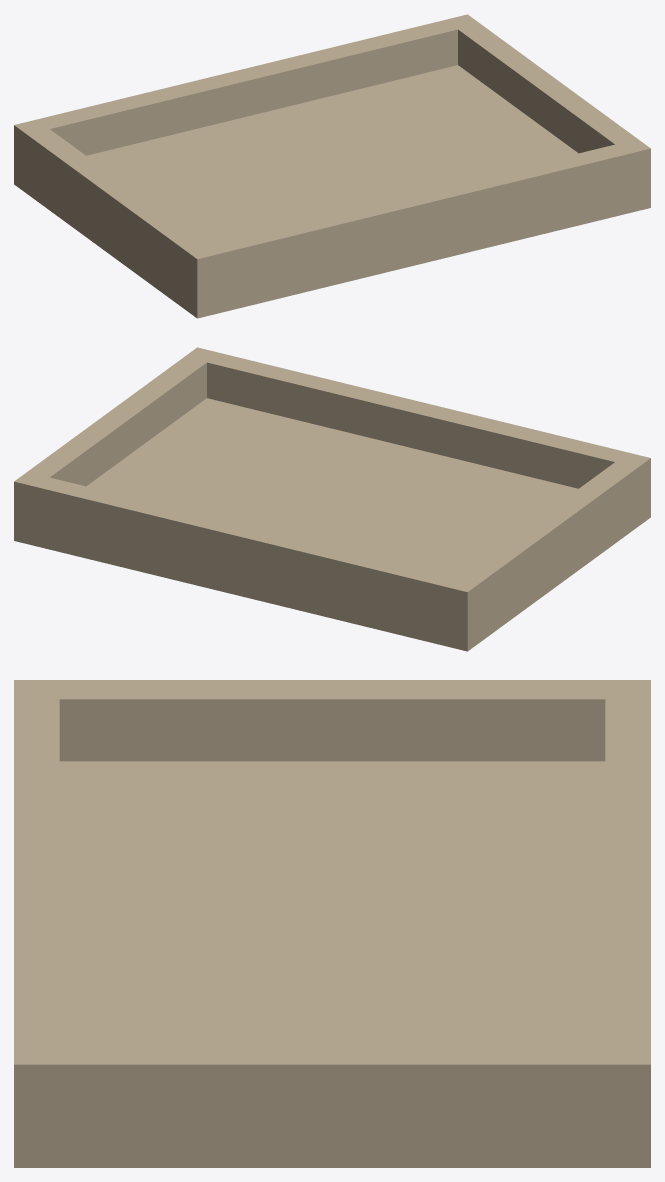
Rendered from sub_bandeja.glb.
3 views of the same model, one above another, from view 1: azimuth 30°, elevation 25°; view 2: azimuth 150°, elevation 25°; view 3: azimuth 270°, elevation 25° (orthographic). The views are drawn at different scales.
Visible parts, largest first — view 1: SUB_Bandeja_v01; view 2: SUB_Bandeja_v01; view 3: SUB_Bandeja_v01.
Part boxes in pixels (<box>): SUB_Bandeja_v01: <box>14,14,650,318</box>; SUB_Bandeja_v01: <box>14,347,650,651</box>; SUB_Bandeja_v01: <box>14,680,650,1167</box>.
Bounding box in the file's own units: 0.4 × 0.05 × 0.28.
